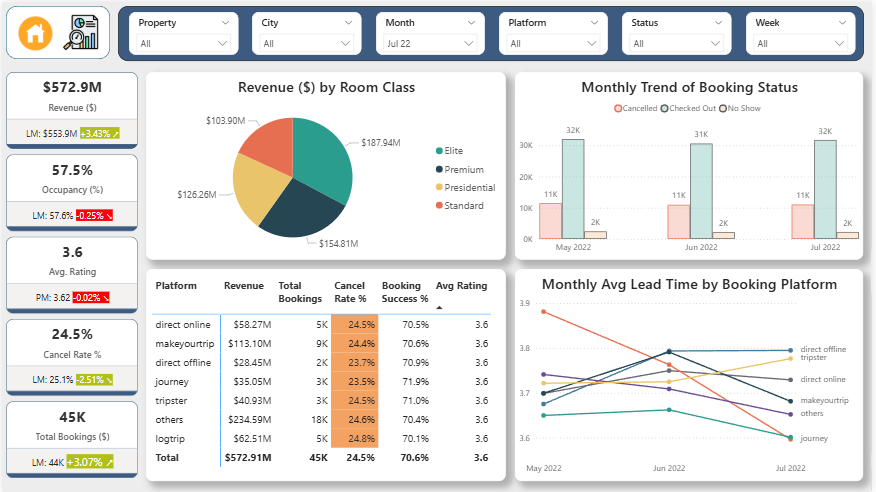

The dashboard page shown, as its layout file describes it:
{"tool":"powerbi","page":{"name":"Monthly Insights","canvas":[1280,720],"ordinal":2},"visuals":[{"type":"shape","box":[5.9,5.9,152.9,77.9],"z":0,"group":"g2"},{"type":"shape","box":[171,5.9,1097.1,80.9],"z":0,"group":"g1"},{"type":"cardVisual","fields":{"Data":["Key_Measures.Revenue","Key_Measures.Occupancy %","Key_Measures.Average Rating","Key_Measures.Cancel Rate %","Key_Measures.Total Bookings"]},"box":[5.9,102.9,194.1,601.5],"z":0},{"type":"group","id":"g1","title":"Filters","box":[171,5.9,1097.1,80.9],"z":1000},{"type":"slicer","title":"Week","fields":{"Values":["dim_date.week no"]},"box":[1093.9,14.9,161.4,63],"z":1000,"group":"g1"},{"type":"image","box":[16.2,16.2,66.2,60.3],"z":1000,"group":"g2"},{"type":"image","box":[82.4,13.3,66.2,63.2],"z":2000,"group":"g2"},{"type":"slicer","title":"Month","fields":{"Values":["dim_date.mmm yy"]},"box":[550.7,14.9,160,63],"z":2000,"group":"g1"},{"type":"slicer","title":"Platform","fields":{"Values":["fact_bookings.booking_platform"]},"box":[731.3,14.9,160,63],"z":3000,"group":"g1"},{"type":"slicer","title":"Status","fields":{"Values":["fact_bookings.booking_status"]},"box":[911.9,14.9,161.4,63],"z":4000,"group":"g1"},{"type":"slicer","title":"City","fields":{"Values":["dim_hotels.city"]},"box":[368.6,14.9,161.4,63],"z":5000,"group":"g1"},{"type":"pieChart","title":"Revenue ($) by Room Class","fields":{"Category":["dim_rooms.room_class"],"Y":["Key_Measures.Revenue"]},"box":[211.8,102.9,529.4,276.5],"z":5000},{"type":"slicer","title":"Property","fields":{"Values":["dim_hotels.property_name"]},"box":[186.6,14.9,161.4,63],"z":6000,"group":"g1"},{"type":"pivotTable","fields":{"Rows":["fact_bookings.booking_platform"],"Values":["Key_Measures.Revenue","Key_Measures.Total Bookings","Key_Measures.Cancel Rate %","Key_Measures.Booking Success %","Key_Measures.Average Rating"]},"box":[211.8,392.6,529.4,311.8],"z":6000},{"type":"clusteredColumnChart","title":"Monthly Trend of Booking Status","fields":{"Category":["dim_date.mmm yy"],"Series":["fact_bookings.booking_status"],"Y":["Key_Measures.Total Bookings"]},"box":[754.4,102.9,511.8,276.5],"z":7000},{"type":"lineChart","title":"Monthly Avg Lead Time by Booking Platform","fields":{"Category":["dim_date.mmm yy"],"Series":["fact_bookings.booking_platform"],"Y":["Key_Measures.Avg Lead Time (Days)"]},"box":[754,393,512,312],"z":8000},{"type":"group","id":"g2","title":"Navigation Group","box":[5.9,5.9,152.9,77.9],"z":9000}]}

Visuals, with their boxes in screenshot pixels (x1, y1, x2, y2), scaled from the page's 1280x720 canvas onto the 876x492 screenshot:
shape: left=4, top=4, right=109, bottom=57
shape: left=117, top=4, right=868, bottom=59
cardVisual - Key_Measures.Revenue x Key_Measures.Occupancy %: left=4, top=70, right=137, bottom=481
"Filters" group: left=117, top=4, right=868, bottom=59
"Week" slicer: left=749, top=10, right=859, bottom=53
image: left=11, top=11, right=56, bottom=52
image: left=56, top=9, right=102, bottom=52
"Month" slicer: left=377, top=10, right=486, bottom=53
"Platform" slicer: left=500, top=10, right=610, bottom=53
"Status" slicer: left=624, top=10, right=735, bottom=53
"City" slicer: left=252, top=10, right=363, bottom=53
"Revenue ($) by Room Class" pieChart: left=145, top=70, right=507, bottom=259
"Property" slicer: left=128, top=10, right=238, bottom=53
pivotTable - fact_bookings.booking_platform x Key_Measures.Revenue: left=145, top=268, right=507, bottom=481
"Monthly Trend of Booking Status" clusteredColumnChart: left=516, top=70, right=867, bottom=259
"Monthly Avg Lead Time by Booking Platform" lineChart: left=516, top=269, right=866, bottom=482
"Navigation Group" group: left=4, top=4, right=109, bottom=57
